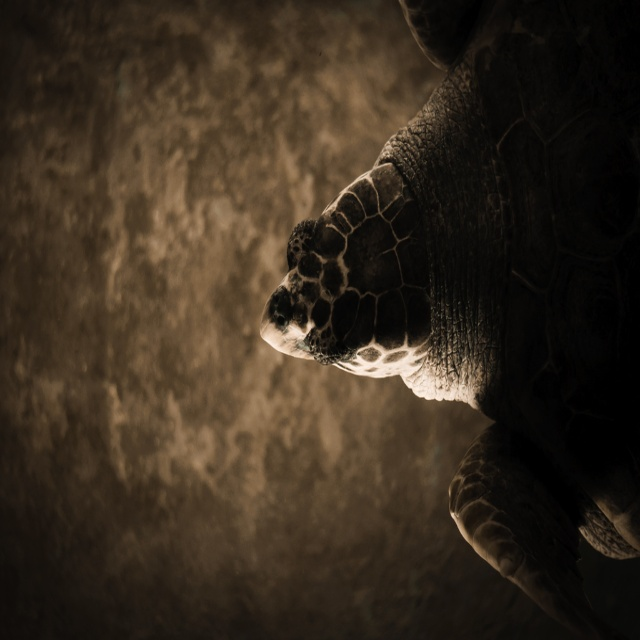Sea turtle: (260, 0, 640, 639)
